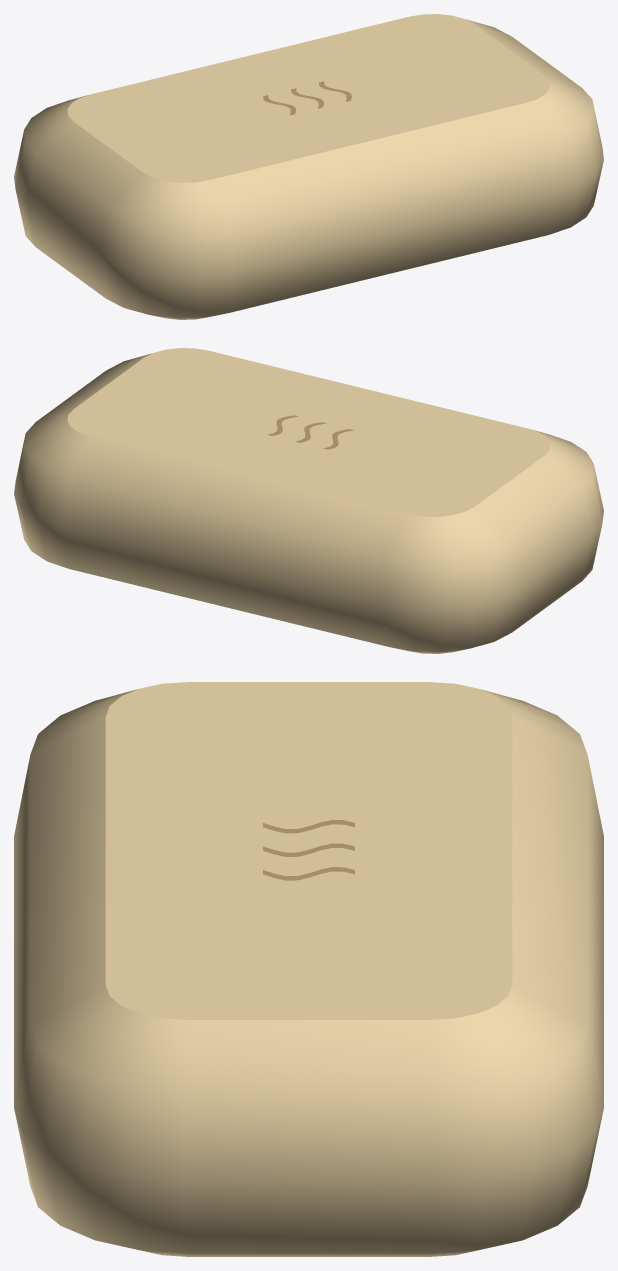
Rendered from soap.glb.
The picture shows the model from 3 angles, top to bottom: view 1: azimuth 30°, elevation 25°; view 2: azimuth 150°, elevation 25°; view 3: azimuth 270°, elevation 25°; orthographic projection. The views are drawn at different scales.
Parts seen in each view (by area): view 1: soap; view 2: soap; view 3: soap.
Part boxes in pixels (bbox=[...]): soap: bbox=[14, 14, 603, 319]; soap: bbox=[14, 348, 603, 653]; soap: bbox=[14, 682, 603, 1256].
Bounding box in the file's own units: 0.3 × 0.08 × 0.18.
